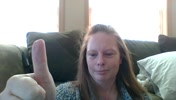hand: (0, 36, 68, 99)
